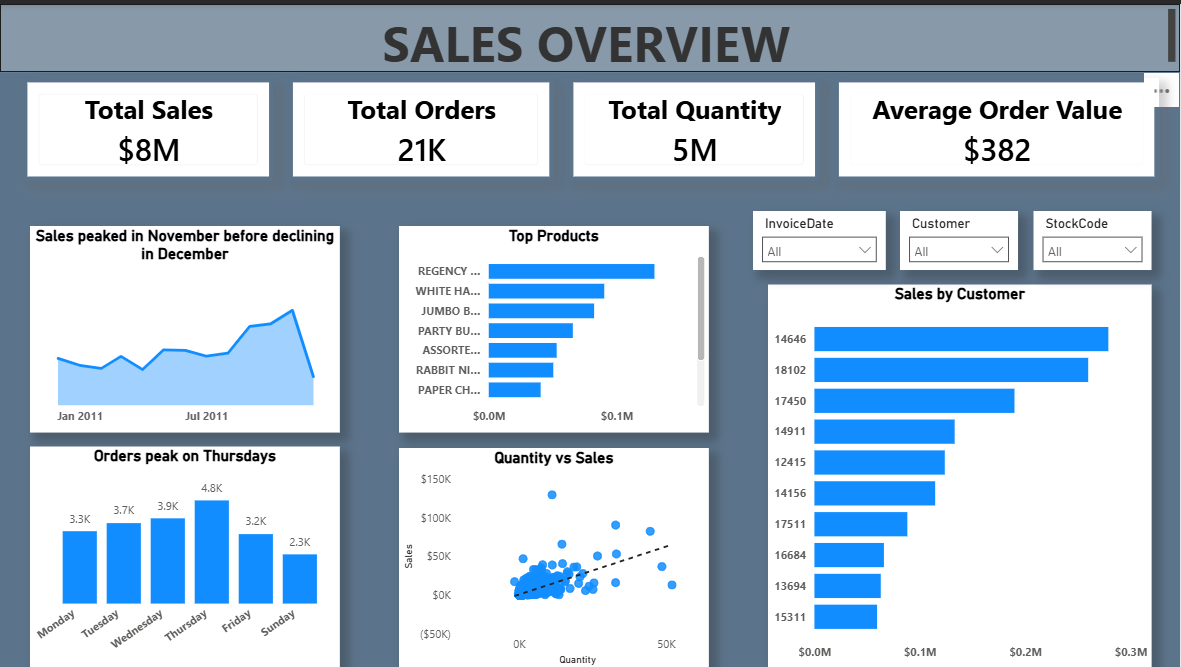

Layout of this report page (visuals, bound fields, positions):
{"tool":"powerbi","page":{"name":"Sales Overview","canvas":[1280,720],"ordinal":0},"visuals":[{"type":"cardVisual","fields":{"Data":["OrderLine.Total Sales"]},"box":[24,80,272,112],"z":0,"group":"g1"},{"type":"lineChart","title":"Sales peaked in November before declining in December","fields":{"Category":["Date.Date.Variation.Date Hierarchy.Year","Date.Date.Variation.Date Hierarchy.Month"],"Y":["OrderLine.TotalSales"]},"box":[32,240,336,224],"z":0},{"type":"textbox","box":[0,0,1279.4,73.7],"z":1000},{"type":"cardVisual","fields":{"Data":["OrderLine.TotalOrders"]},"box":[312,80,288,112],"z":1000,"group":"g1"},{"type":"clusteredBarChart","title":"Top Products","fields":{"Y":["OrderLine.TotalSales"],"Category":["OrderLine.Description"]},"box":[432,240,336,224],"z":1000,"group":"g2"},{"type":"cardVisual","fields":{"Data":["OrderLine.Gross Quantity"]},"box":[616,80,272,112],"z":2000,"group":"g1"},{"type":"clusteredBarChart","title":"Sales by Customer","fields":{"Category":["Invoice.CustomerID"],"Y":["OrderLine.Total Sales"]},"box":[832,304,416,416],"z":2000},{"type":"clusteredColumnChart","title":"Orders peak on Thursdays","fields":{"Y":["OrderLine.Total Orders"],"Category":["Date.DayName"]},"box":[32,480,336,240],"z":3000},{"type":"slicer","fields":{"Values":["Date.Year"]},"box":[816,224,144,64],"z":4000},{"type":"cardVisual","fields":{"Data":["OrderLine.Average Order Value"]},"box":[904,80,352,112],"z":5000,"group":"g1"},{"type":"slicer","fields":{"Values":["Invoice.CustomerID"]},"box":[976,224,128,64],"z":5000},{"type":"scatterChart","title":"Quantity vs Sales","fields":{"X":["OrderLine.Total Quantity"],"Y":["OrderLine.Total Sales"],"Category":["OrderLine.StockCode"]},"box":[432,480,336,240],"z":5000,"group":"g2"},{"type":"slicer","fields":{"Values":["OrderLine.StockCode"]},"box":[1120,224,128,64],"z":6000},{"type":"group","id":"g1","title":"Group 1","box":[24,80,1232,112],"z":7000},{"type":"group","id":"g2","title":"Group 2","box":[432,240,368,480],"z":8000}]}

Visuals, with their boxes in screenshot pixels (x1, y1, x2, y2), scaled from the page's 1280x720 canvas onto the 1181x667 screenshot:
cardVisual - OrderLine.Total Sales: <bbox>22, 74, 273, 178</bbox>
"Sales peaked in November before declining in December" lineChart: <bbox>30, 222, 340, 430</bbox>
textbox: <bbox>0, 0, 1180, 68</bbox>
cardVisual - OrderLine.TotalOrders: <bbox>288, 74, 554, 178</bbox>
"Top Products" clusteredBarChart: <bbox>399, 222, 709, 430</bbox>
cardVisual - OrderLine.Gross Quantity: <bbox>568, 74, 819, 178</bbox>
"Sales by Customer" clusteredBarChart: <bbox>768, 282, 1151, 666</bbox>
"Orders peak on Thursdays" clusteredColumnChart: <bbox>30, 445, 340, 666</bbox>
slicer - Date.Year: <bbox>753, 208, 886, 267</bbox>
cardVisual - OrderLine.Average Order Value: <bbox>834, 74, 1159, 178</bbox>
slicer - Invoice.CustomerID: <bbox>901, 208, 1019, 267</bbox>
"Quantity vs Sales" scatterChart: <bbox>399, 445, 709, 666</bbox>
slicer - OrderLine.StockCode: <bbox>1033, 208, 1151, 267</bbox>
"Group 1" group: <bbox>22, 74, 1159, 178</bbox>
"Group 2" group: <bbox>399, 222, 738, 666</bbox>
